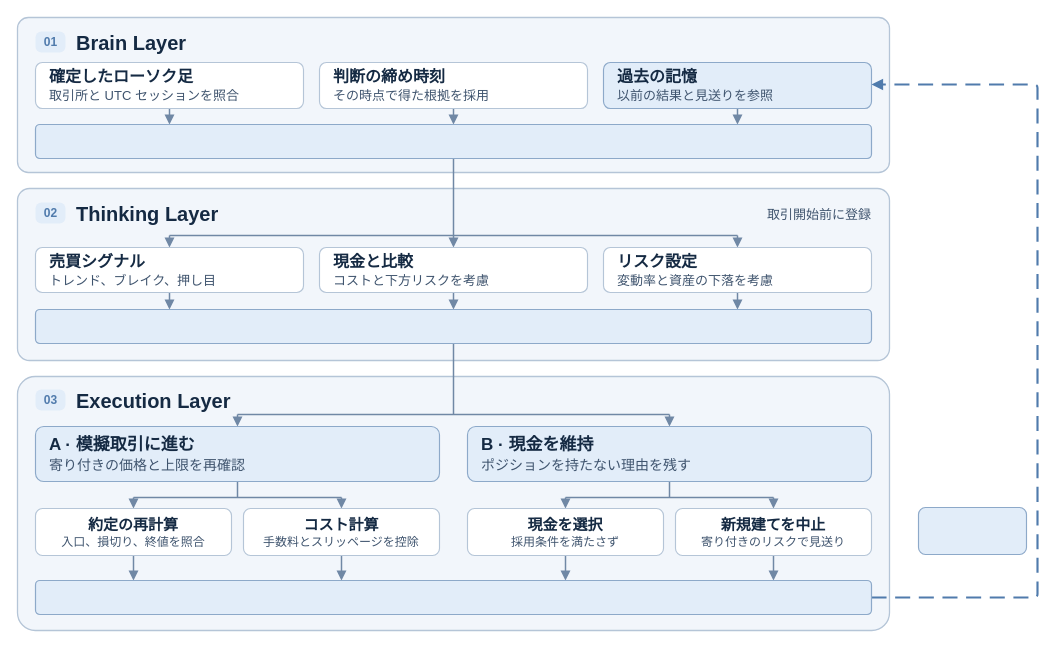
Some shapes in this 1064 by 649 pixel diagram are drawn without their labels. Here are the shapes that lost their labels. From the top down, the centre of each, then its label:
(453,141): 固定した根拠 · 取引所、締め時刻、内容のハッシュ
(453,326): 登録した判断 · 戦略、ポジション上限、損切り
(972,530): 記憶に反映 次の判断へ
(453,597): 検証済みの結果 · 事前登録した基準と比較し、記録を保存
